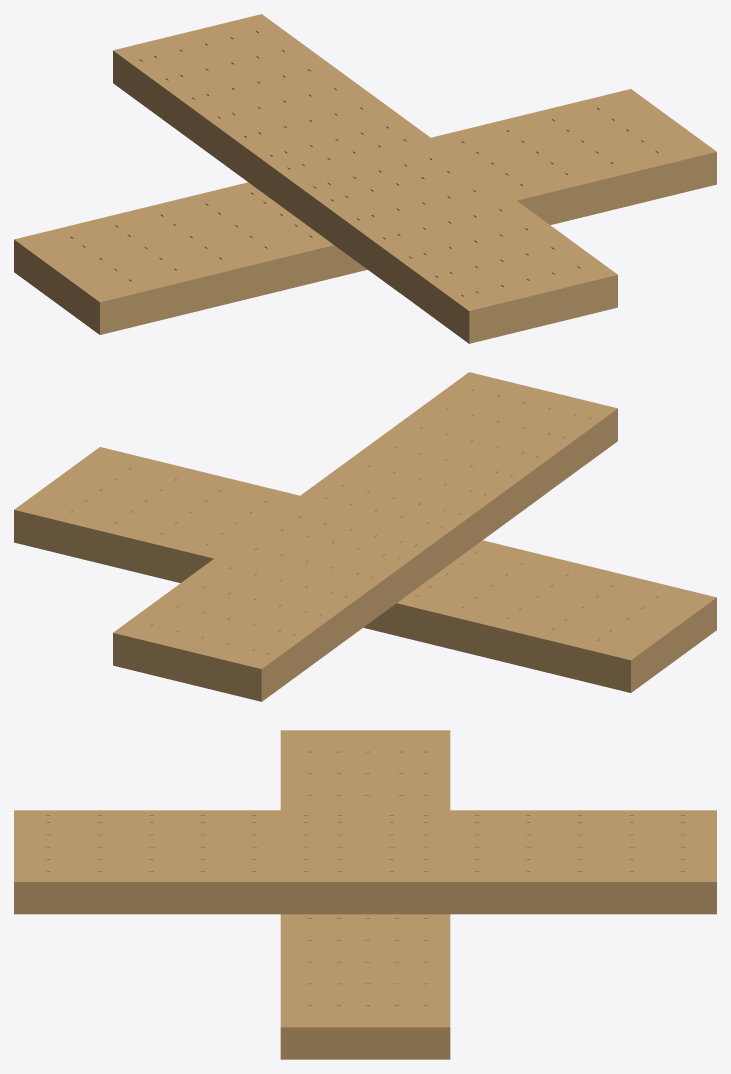
Rendered from Crackers.fbx.
3 views of the same model, one above another, from view 1: azimuth 30°, elevation 25°; view 2: azimuth 150°, elevation 25°; view 3: azimuth 270°, elevation 25° (orthographic).
Visible parts, largest first — view 1: TopCracker; view 2: TopCracker; view 3: TopCracker.
Boxes of the visible parts, x1=… form: TopCracker: x1=14, y1=14, x2=716, y2=343; TopCracker: x1=14, y1=372, x2=716, y2=701; TopCracker: x1=14, y1=730, x2=716, y2=1059.
Size of the model in its own units: 0.3858 by 0.3858 by 0.0393.
